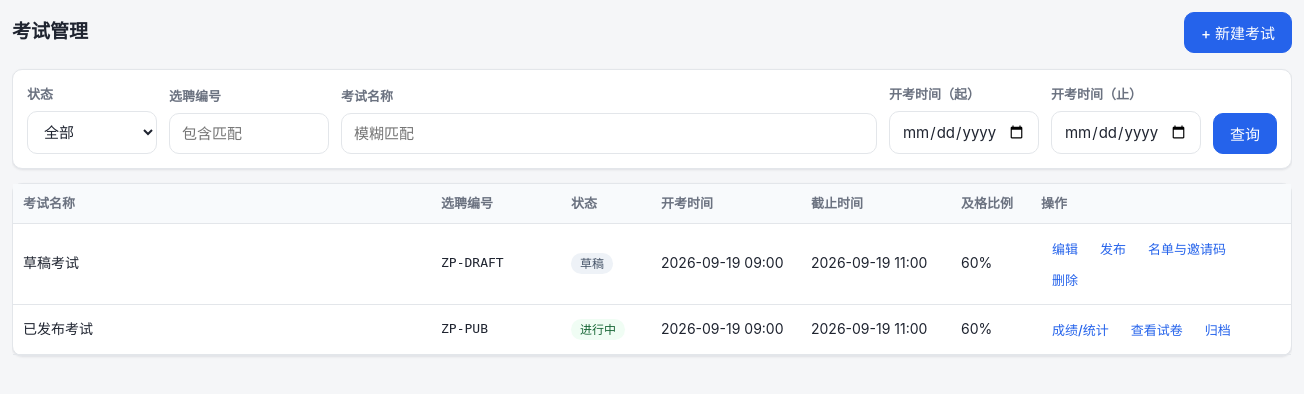
Test: 查询条件（CH-006） › 有查询条件时出现「清除」，点击后清空并重新加载
Type "草稿" into the field labelled "考试名称" at (609, 133), box left=341, top=113, right=877, bottom=154
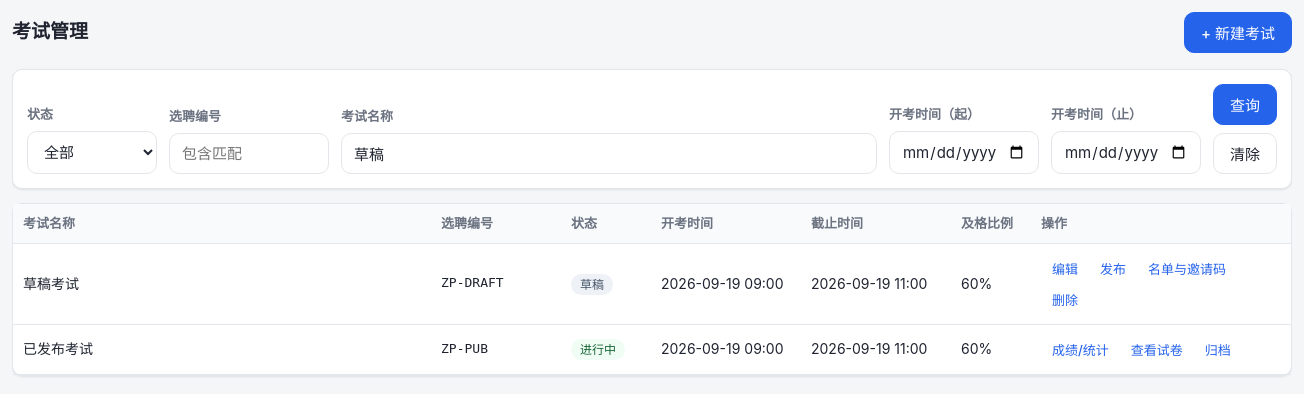
Click the button "清除" at (1245, 154), box left=1213, top=133, right=1277, bottom=174
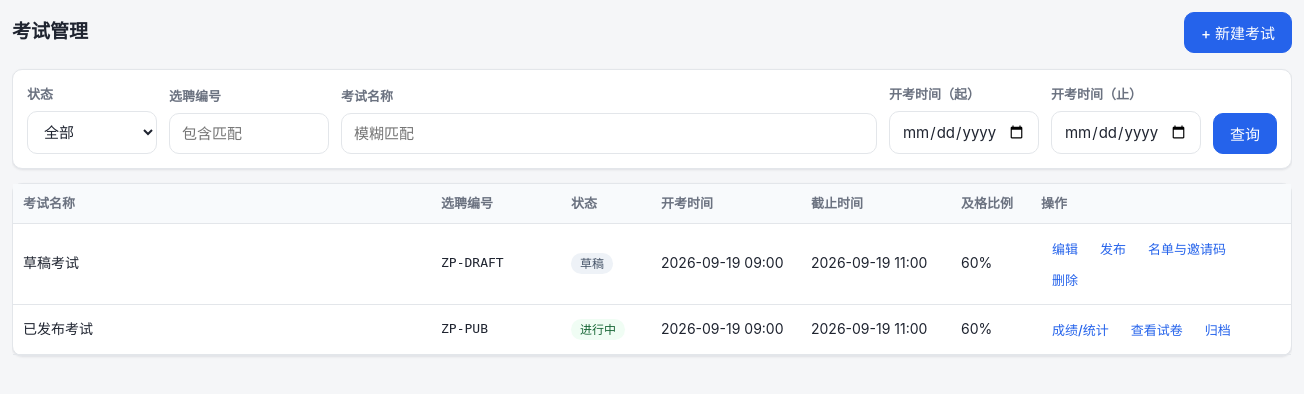
Expected: the field labelled "考试名称" is empty, left=341, top=113, right=877, bottom=154
